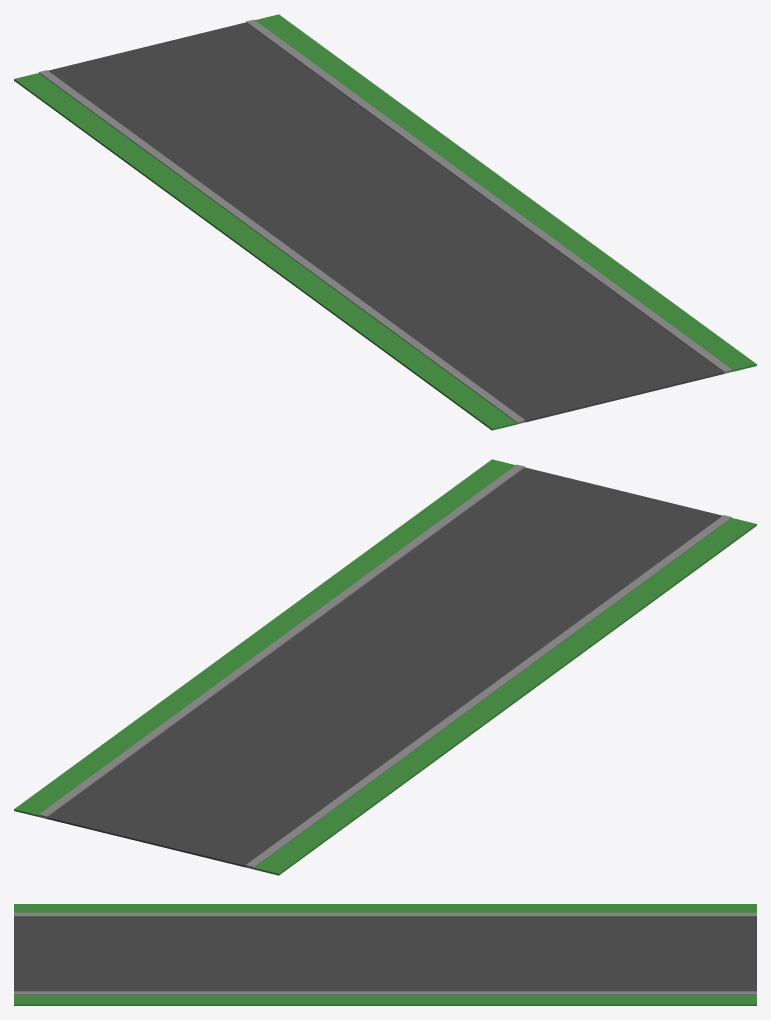
File: rooad.glb
3 renders of one model, top to bottom at view 1: azimuth 30°, elevation 25°; view 2: azimuth 150°, elevation 25°; view 3: azimuth 270°, elevation 25°, orthographic. The views are drawn at different scales.
Visible parts, largest first — view 1: Cube.002, Cube.001, Cube.003, Cube, Cube.004; view 2: Cube.002, Cube.001, Cube.003, Cube, Cube.004; view 3: Cube.002, Cube.003, Cube.001, Cube, Cube.004.
Part boxes in pixels (x1,y1,x2,y2): Cube.002: [48, 22, 723, 422]; Cube.001: [14, 73, 516, 430]; Cube.003: [255, 14, 756, 371]; Cube: [39, 70, 524, 424]; Cube.004: [246, 19, 731, 373]; Cube.002: [47, 467, 722, 867]; Cube.001: [254, 518, 756, 875]; Cube.003: [14, 459, 515, 816]; Cube: [246, 515, 731, 869]; Cube.004: [39, 464, 524, 818]; Cube.002: [14, 916, 756, 991]; Cube.003: [14, 995, 756, 1005]; Cube.001: [14, 904, 756, 912]; Cube: [14, 912, 756, 916]; Cube.004: [14, 991, 756, 994].
Size of the model in its own units: 3200 by 30 by 10000.
